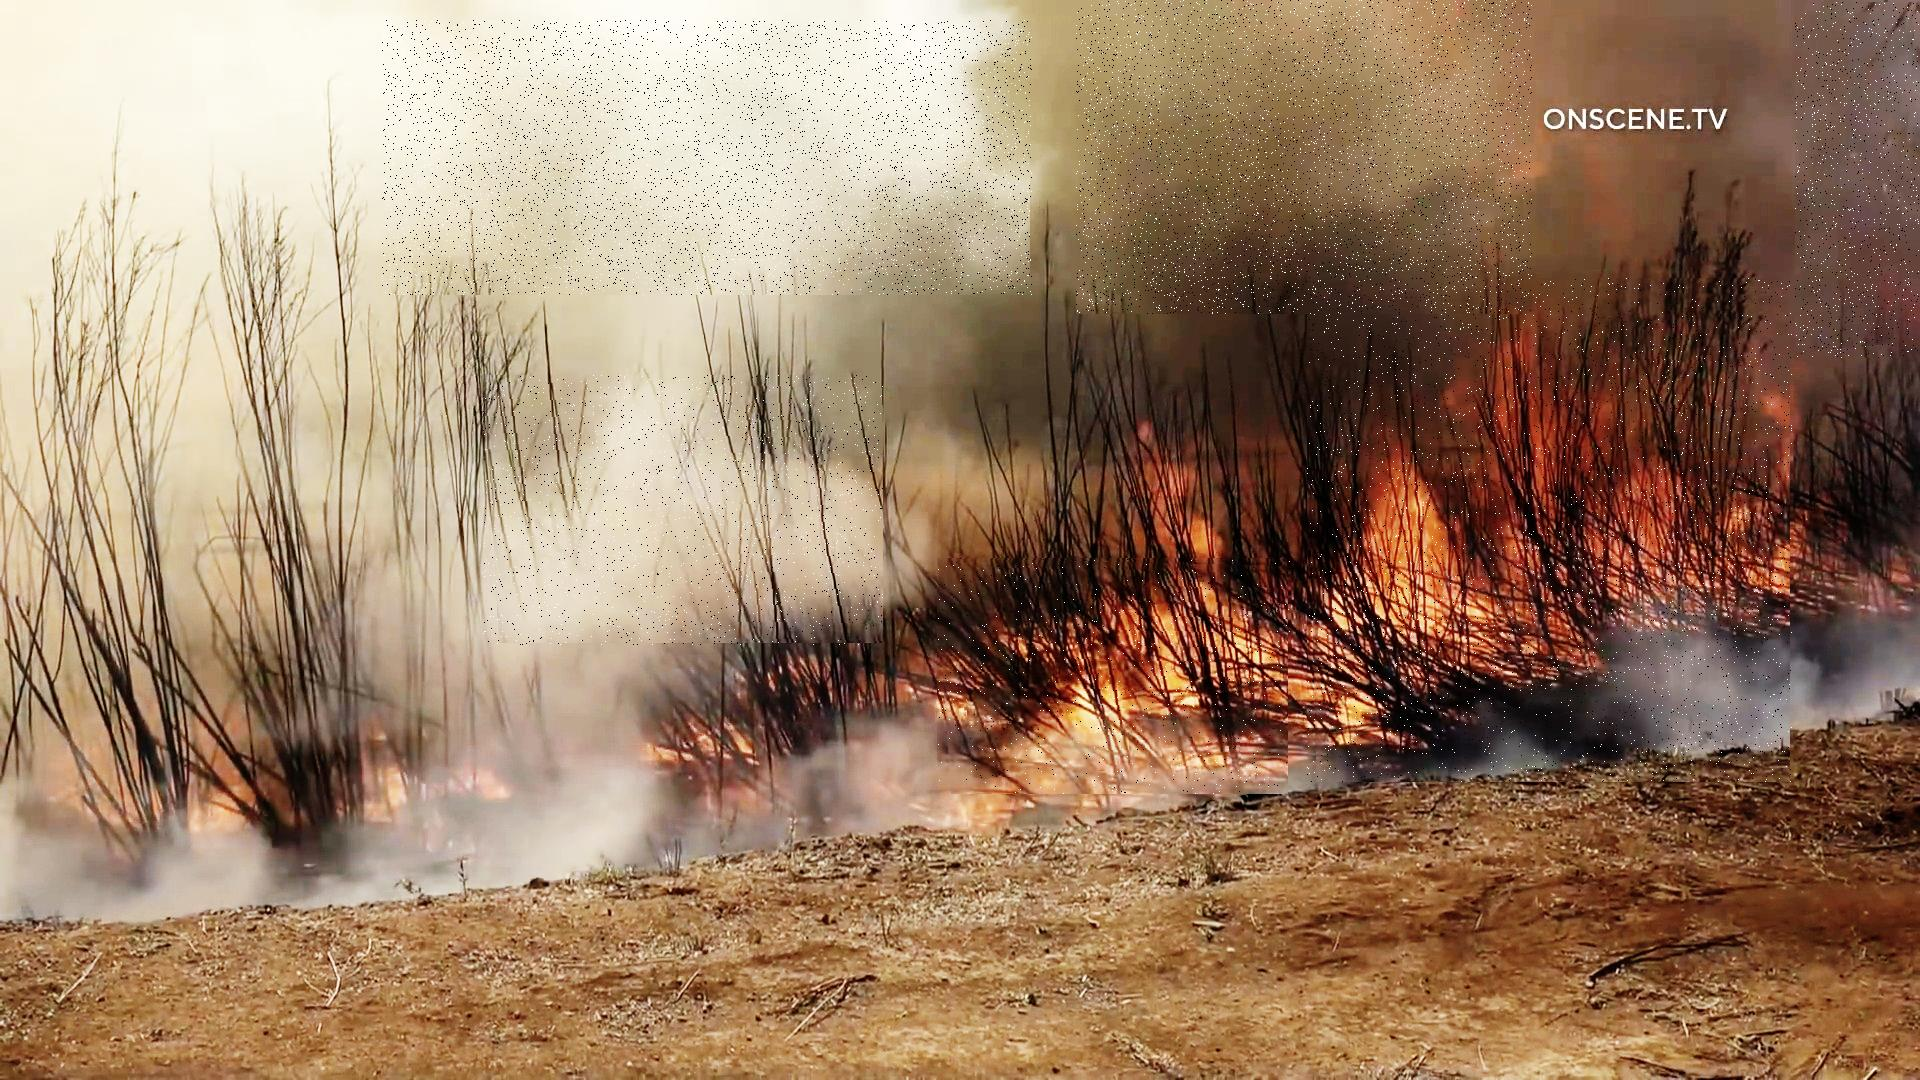fire: (1308, 278, 1793, 782), (938, 558, 1291, 794)
smoke: (382, 20, 1033, 295), (1076, 0, 1532, 314), (483, 376, 884, 646), (1796, 3, 1920, 359)
